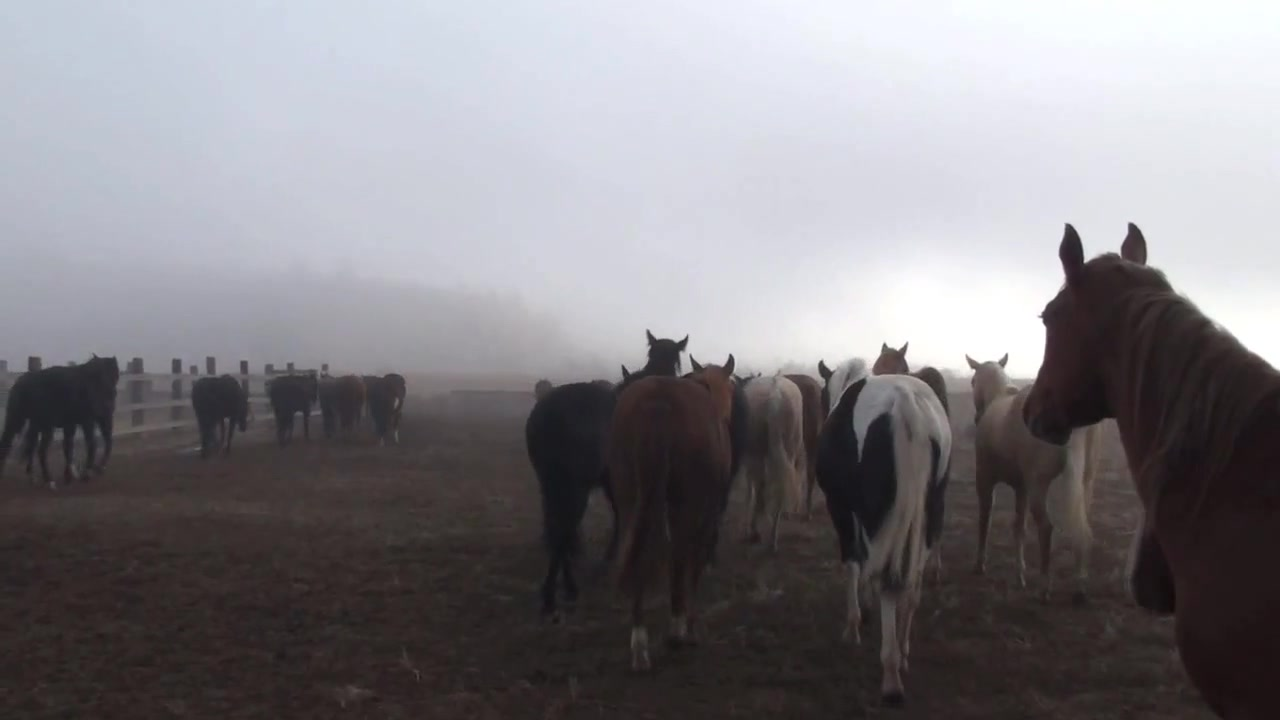horse: (1022, 222, 1280, 717)
